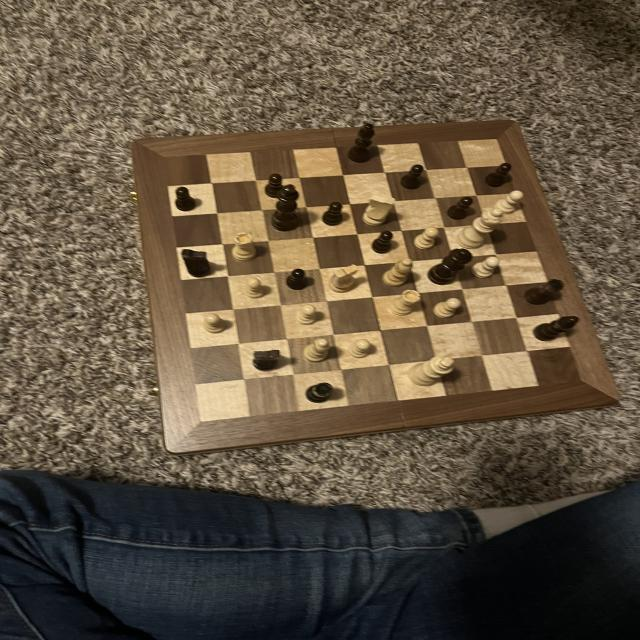bishop: (528, 314, 584, 343), (346, 121, 382, 165)
black-bishop: (269, 184, 306, 234)
black-king: (180, 248, 216, 279), (249, 348, 285, 372)
black-knight: (484, 161, 515, 190), (172, 185, 202, 213), (369, 228, 398, 256), (398, 163, 427, 190), (320, 200, 347, 228), (445, 196, 476, 220), (285, 267, 311, 293), (263, 171, 285, 200)
black-pawn: (424, 247, 478, 286)
black-queen: (522, 278, 567, 306), (303, 380, 337, 405)
black-rook: (380, 258, 416, 288), (302, 336, 332, 363)
white-bishop: (404, 355, 458, 388)
white-king: (360, 193, 396, 229), (328, 264, 360, 293)
white-knight: (493, 189, 528, 214), (410, 225, 442, 252), (469, 254, 502, 278), (433, 296, 464, 317), (202, 311, 229, 335), (346, 337, 374, 360), (294, 303, 320, 326), (244, 275, 268, 299)
white-pawn: (454, 207, 506, 251)
white-queen: (386, 288, 424, 316), (230, 232, 260, 264)
